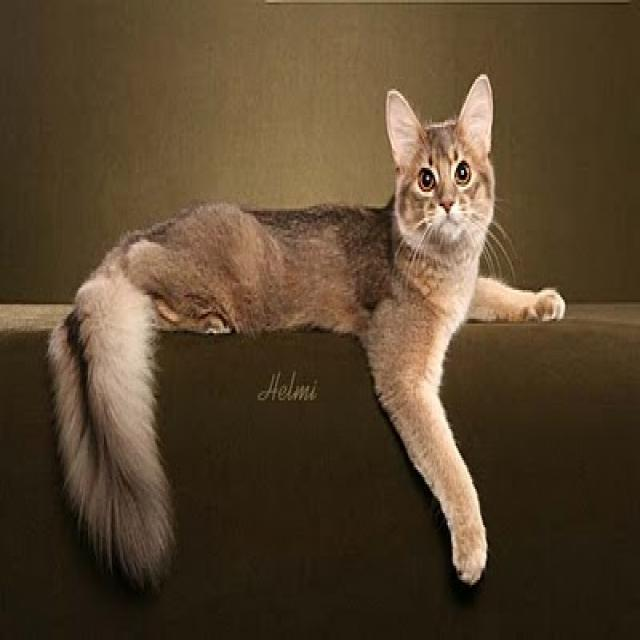Abyssinian: (384, 72, 494, 242)
